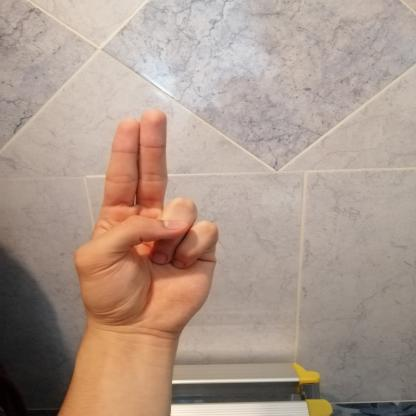TA: (56, 100, 232, 344)
